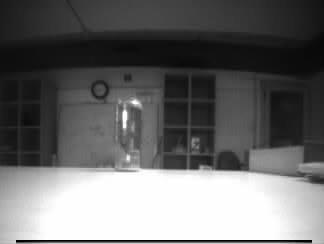Tin can: (116, 97, 142, 170)
